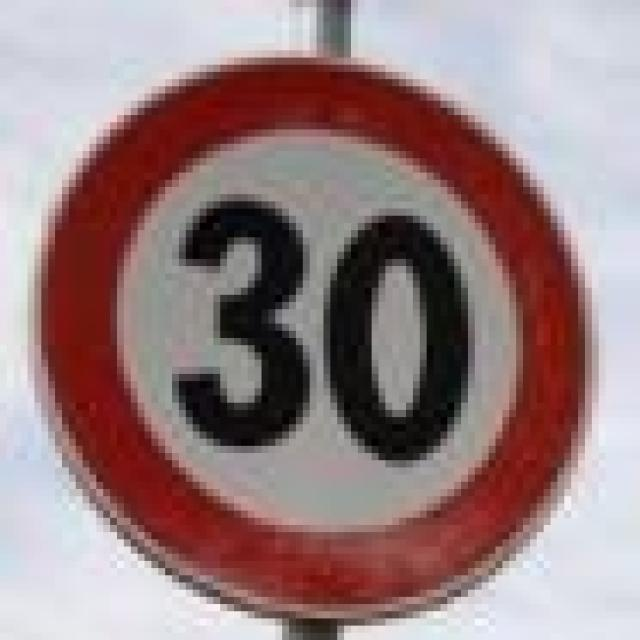speed_limit_30: (34, 50, 578, 604)
